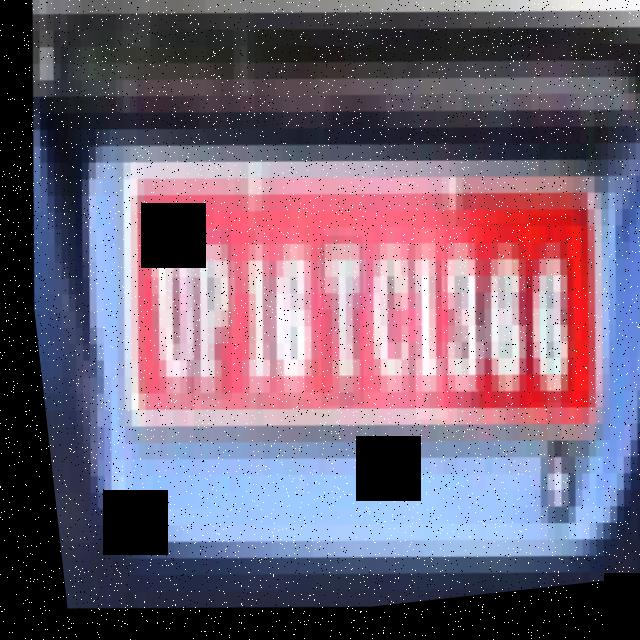1: (388, 235, 456, 431), (215, 235, 283, 416)
3: (418, 233, 489, 403)
6: (453, 229, 538, 424), (504, 223, 580, 418), (247, 239, 321, 408)
C: (344, 231, 424, 419)
P: (167, 229, 240, 407)
T: (296, 239, 371, 416)
U: (129, 229, 204, 399)
